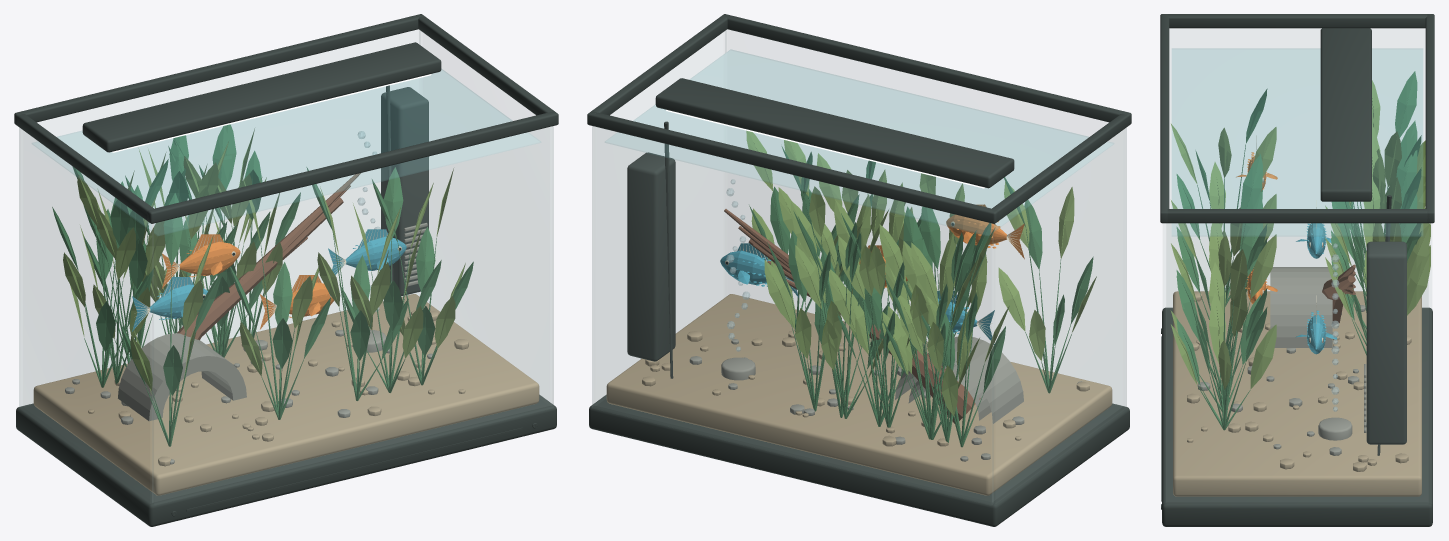
The model's file is desktop-aquarium.glb.
3 views of the same model, side by side, from view 1: azimuth 30°, elevation 25°; view 2: azimuth 150°, elevation 25°; view 3: azimuth 270°, elevation 25° (orthographic).
Visible parts, largest first — view 1: desktop-aquarium, aquarium_fish_3, aquarium_fish_2, aquarium_fish_0, detail_casework_aquarium_base_register.001, aquarium_fish_1; view 2: desktop-aquarium, aquarium_fish_2, aquarium_fish_3; view 3: desktop-aquarium, aquarium_fish_2, aquarium_fish_0.
Part boxes in pixels (x1,y1,x2,y2): desktop-aquarium: [14, 14, 558, 526]; aquarium_fish_3: [179, 234, 240, 277]; aquarium_fish_2: [345, 229, 406, 270]; aquarium_fish_0: [149, 277, 207, 319]; detail_casework_aquarium_base_register.001: [186, 427, 522, 511]; aquarium_fish_1: [289, 275, 333, 317]; desktop-aquarium: [587, 14, 1131, 526]; aquarium_fish_2: [720, 243, 771, 286]; aquarium_fish_3: [946, 204, 1006, 248]; desktop-aquarium: [1160, 14, 1434, 526]; aquarium_fish_2: [1295, 303, 1337, 354]; aquarium_fish_0: [1296, 207, 1331, 258].
Size of the model in its own units: 0.6 by 0.45 by 0.35.
